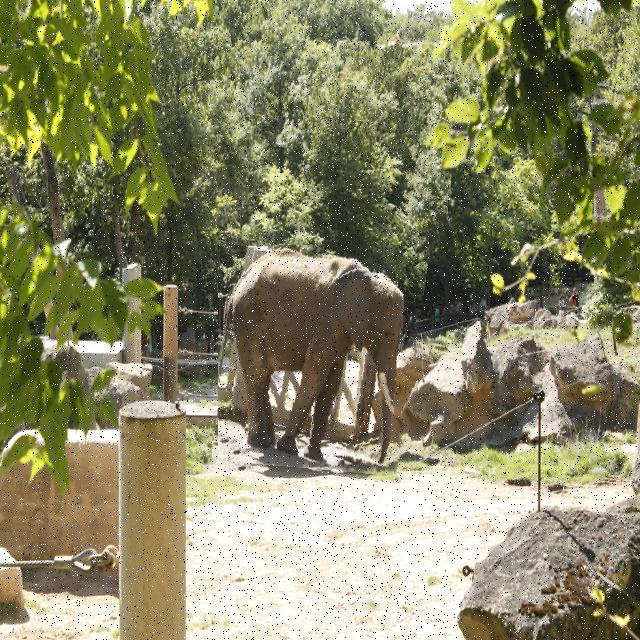elephant: (218, 245, 421, 478)
